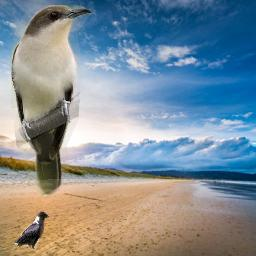Crow: (13, 210, 49, 250)
Cuckoo: (11, 5, 93, 198)
